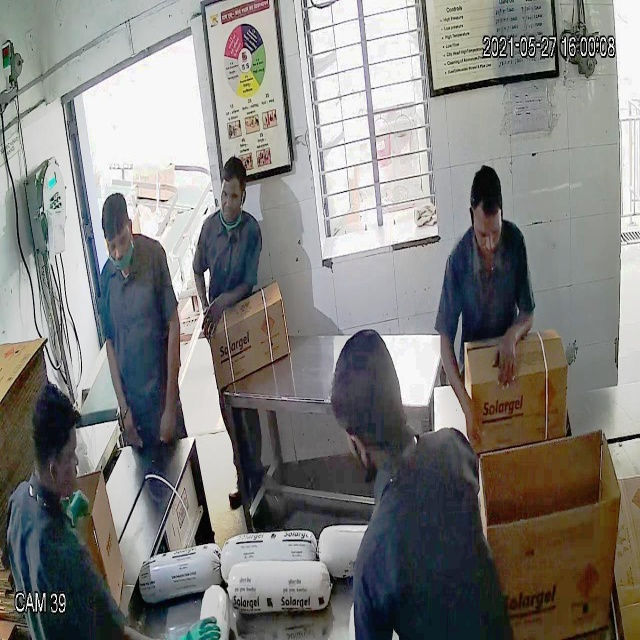Sin_gafas: (468, 214, 508, 247), (98, 223, 134, 256)
